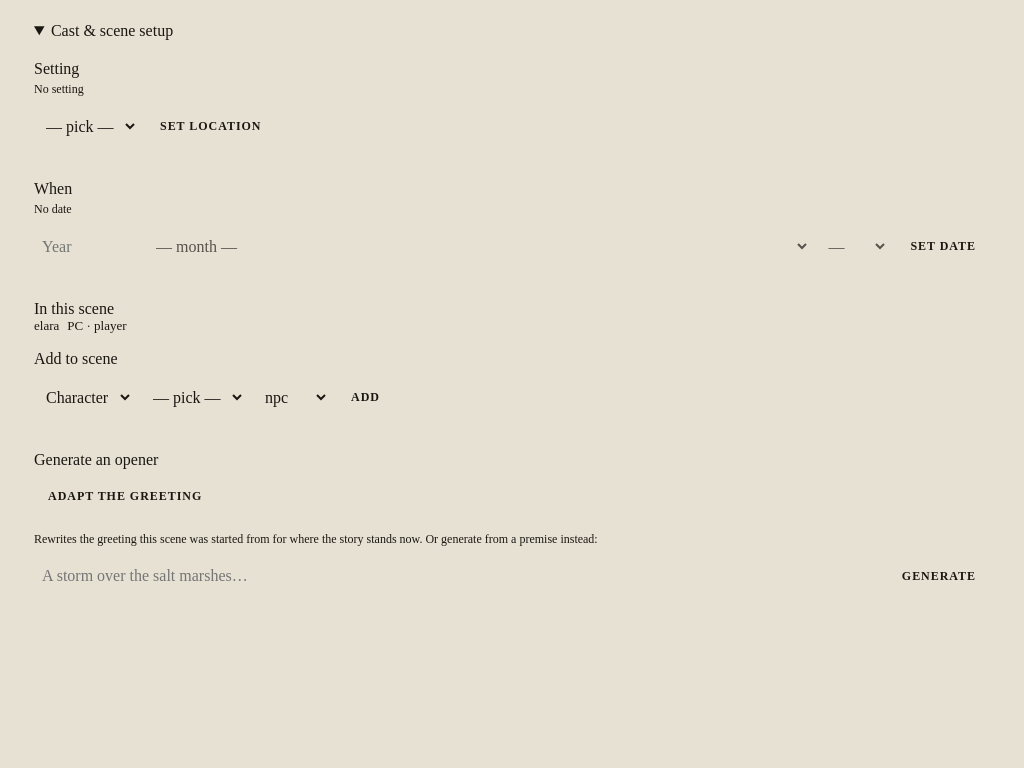
Test case: a scene started from a greeting offers to adapt it
Click the button "Adapt the greeting".
click(125, 496)  # box [34,481,216,512]
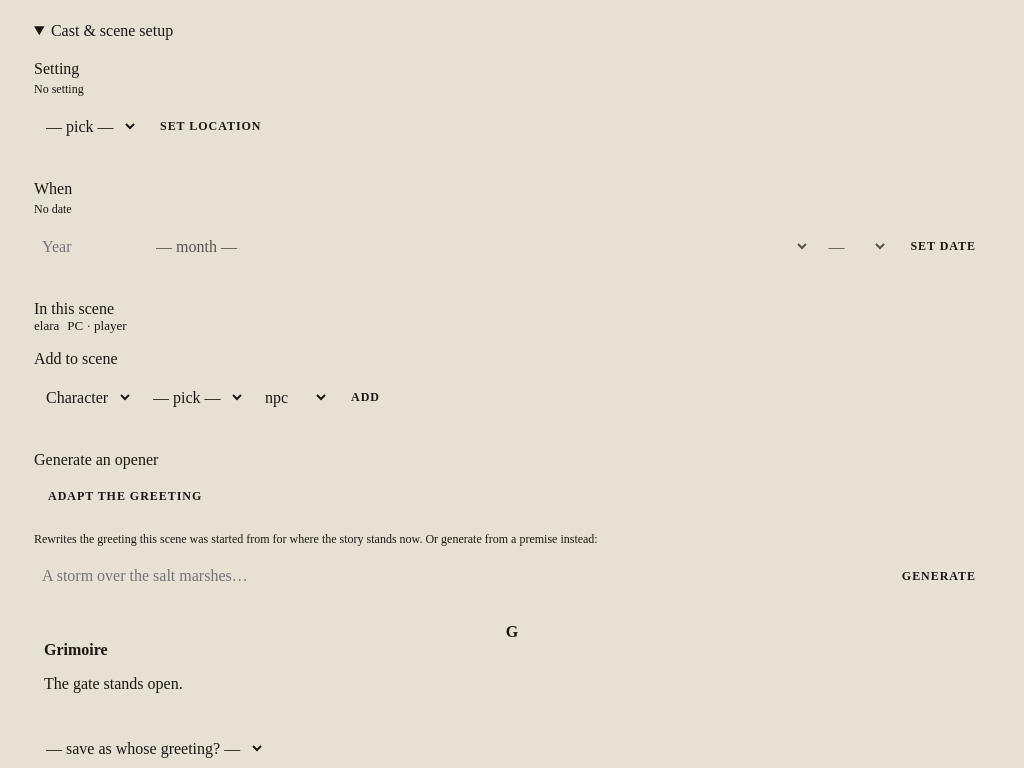
Result: the text "The gate stands open." is shown at [44,675,183,692]
